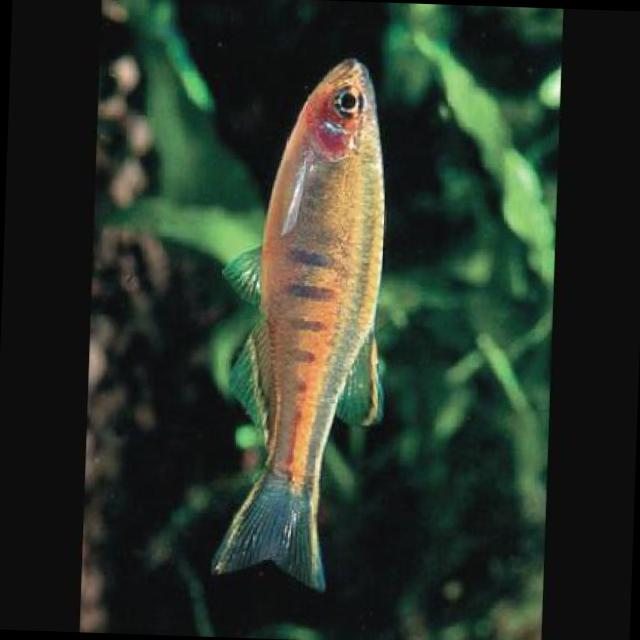ZebraFish: (207, 52, 399, 590)
